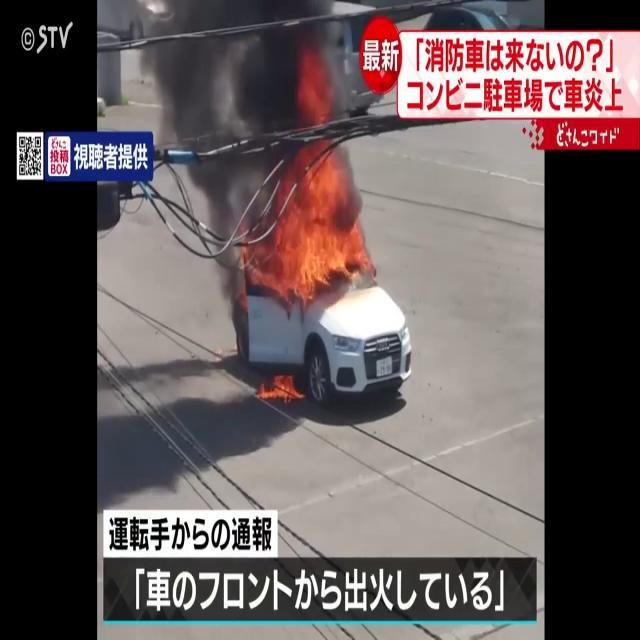Fire: (268, 73, 374, 302), (256, 370, 300, 402)
Smoke: (115, 0, 345, 208)
